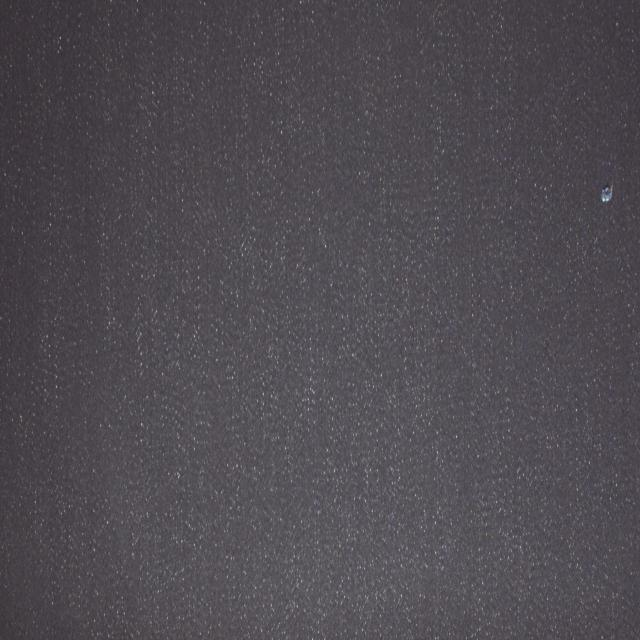Knot: (602, 185, 615, 202)
